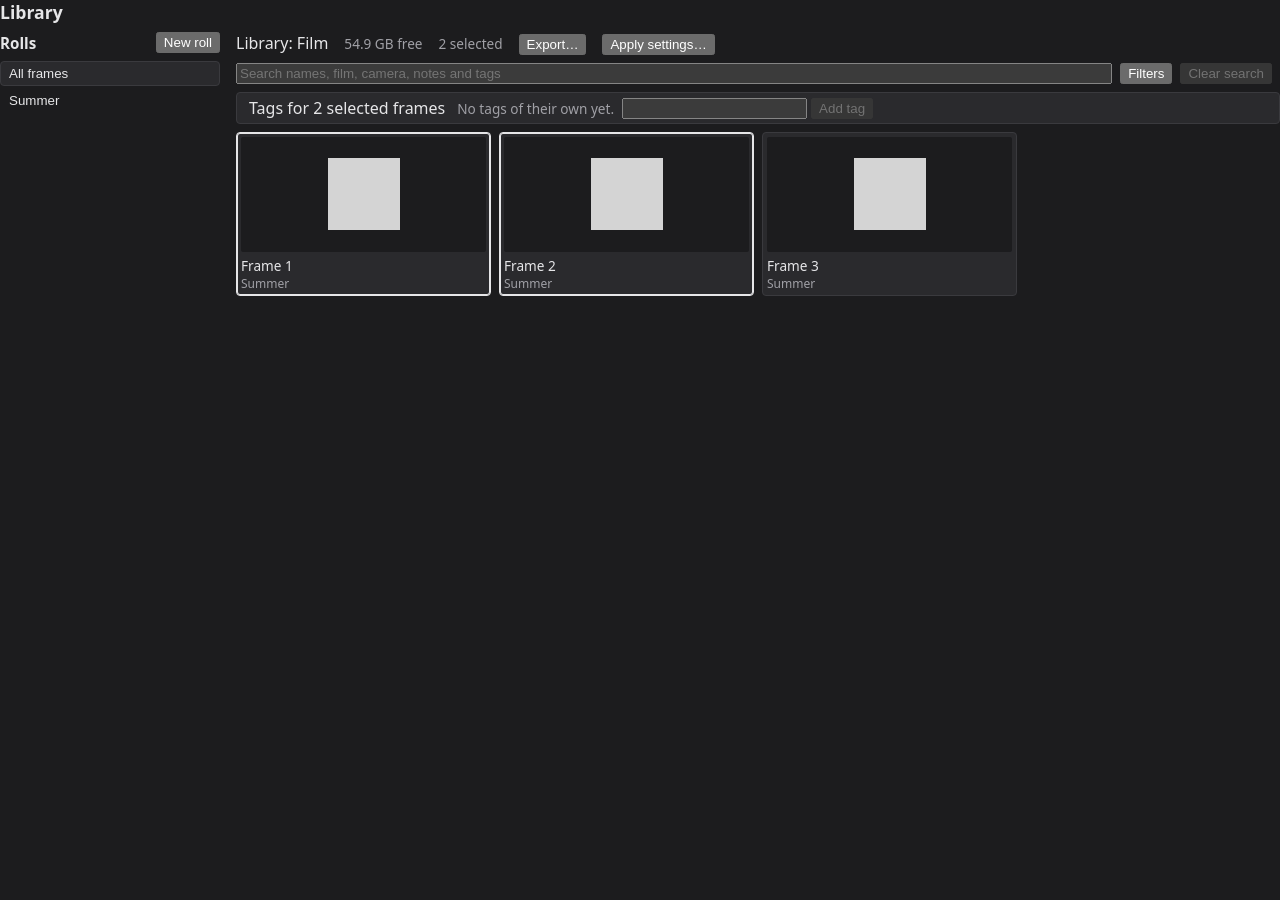
it: ExportDialog › opening it › starts with TIFF 16-bit and sRGB, and needs a folder before it can start
Click the button "Export…": (553,44) [519,34,586,55]
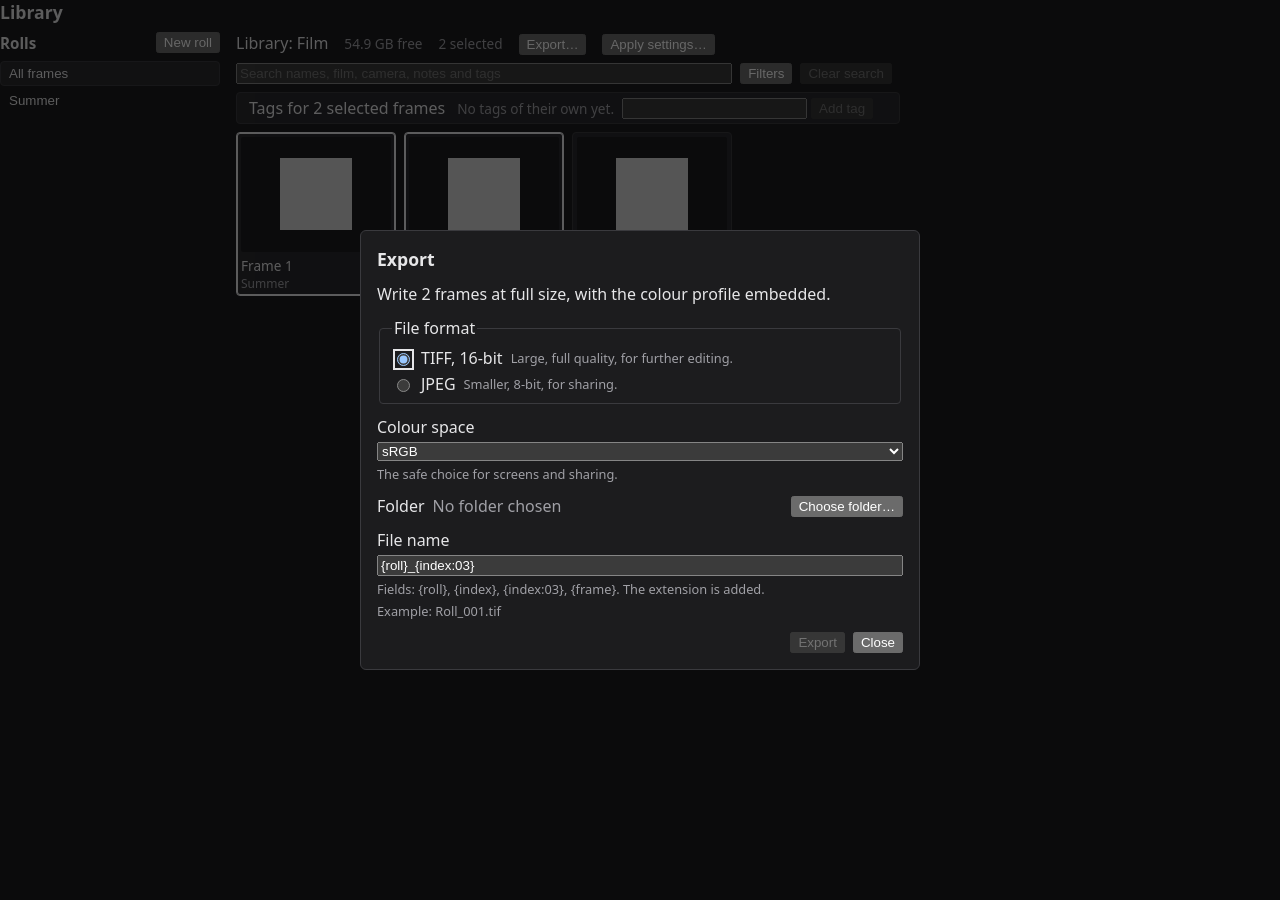
Expected: the dialog "Export" is shown, [360,230,920,670]
Expected: the text "Write 2 frames at full size, with the colour profile embedded." is shown, [377,283,903,305]
Expected: the radio button labelled "TIFF, 16-bit Large, full quality, for further editing." is checked, [397,353,410,366]
